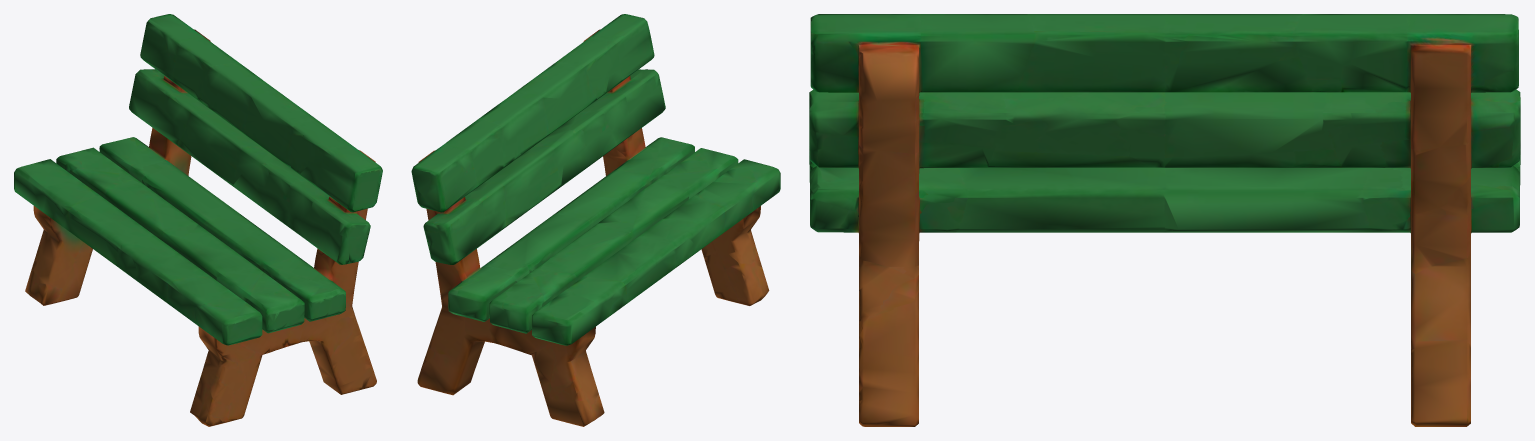
The model's file is lawka.glb.
3 renders of one model, left to right at view 1: azimuth 30°, elevation 25°; view 2: azimuth 150°, elevation 25°; view 3: azimuth 270°, elevation 25°, orthographic. The views are drawn at different scales.
Visible parts, largest first — view 1: tripo_node_baeafb94-b78e-43e3-aba0-cb481b34ae78; view 2: tripo_node_baeafb94-b78e-43e3-aba0-cb481b34ae78; view 3: tripo_node_baeafb94-b78e-43e3-aba0-cb481b34ae78.
Boxes of the visible parts, x1,y1,x2,y2 form: tripo_node_baeafb94-b78e-43e3-aba0-cb481b34ae78: [14, 14, 382, 426]; tripo_node_baeafb94-b78e-43e3-aba0-cb481b34ae78: [411, 14, 780, 426]; tripo_node_baeafb94-b78e-43e3-aba0-cb481b34ae78: [809, 14, 1520, 426].
Size of the model in its own units: 0.4576 by 0.5914 by 0.9786.
Materials: 1 (1 with a texture image).
